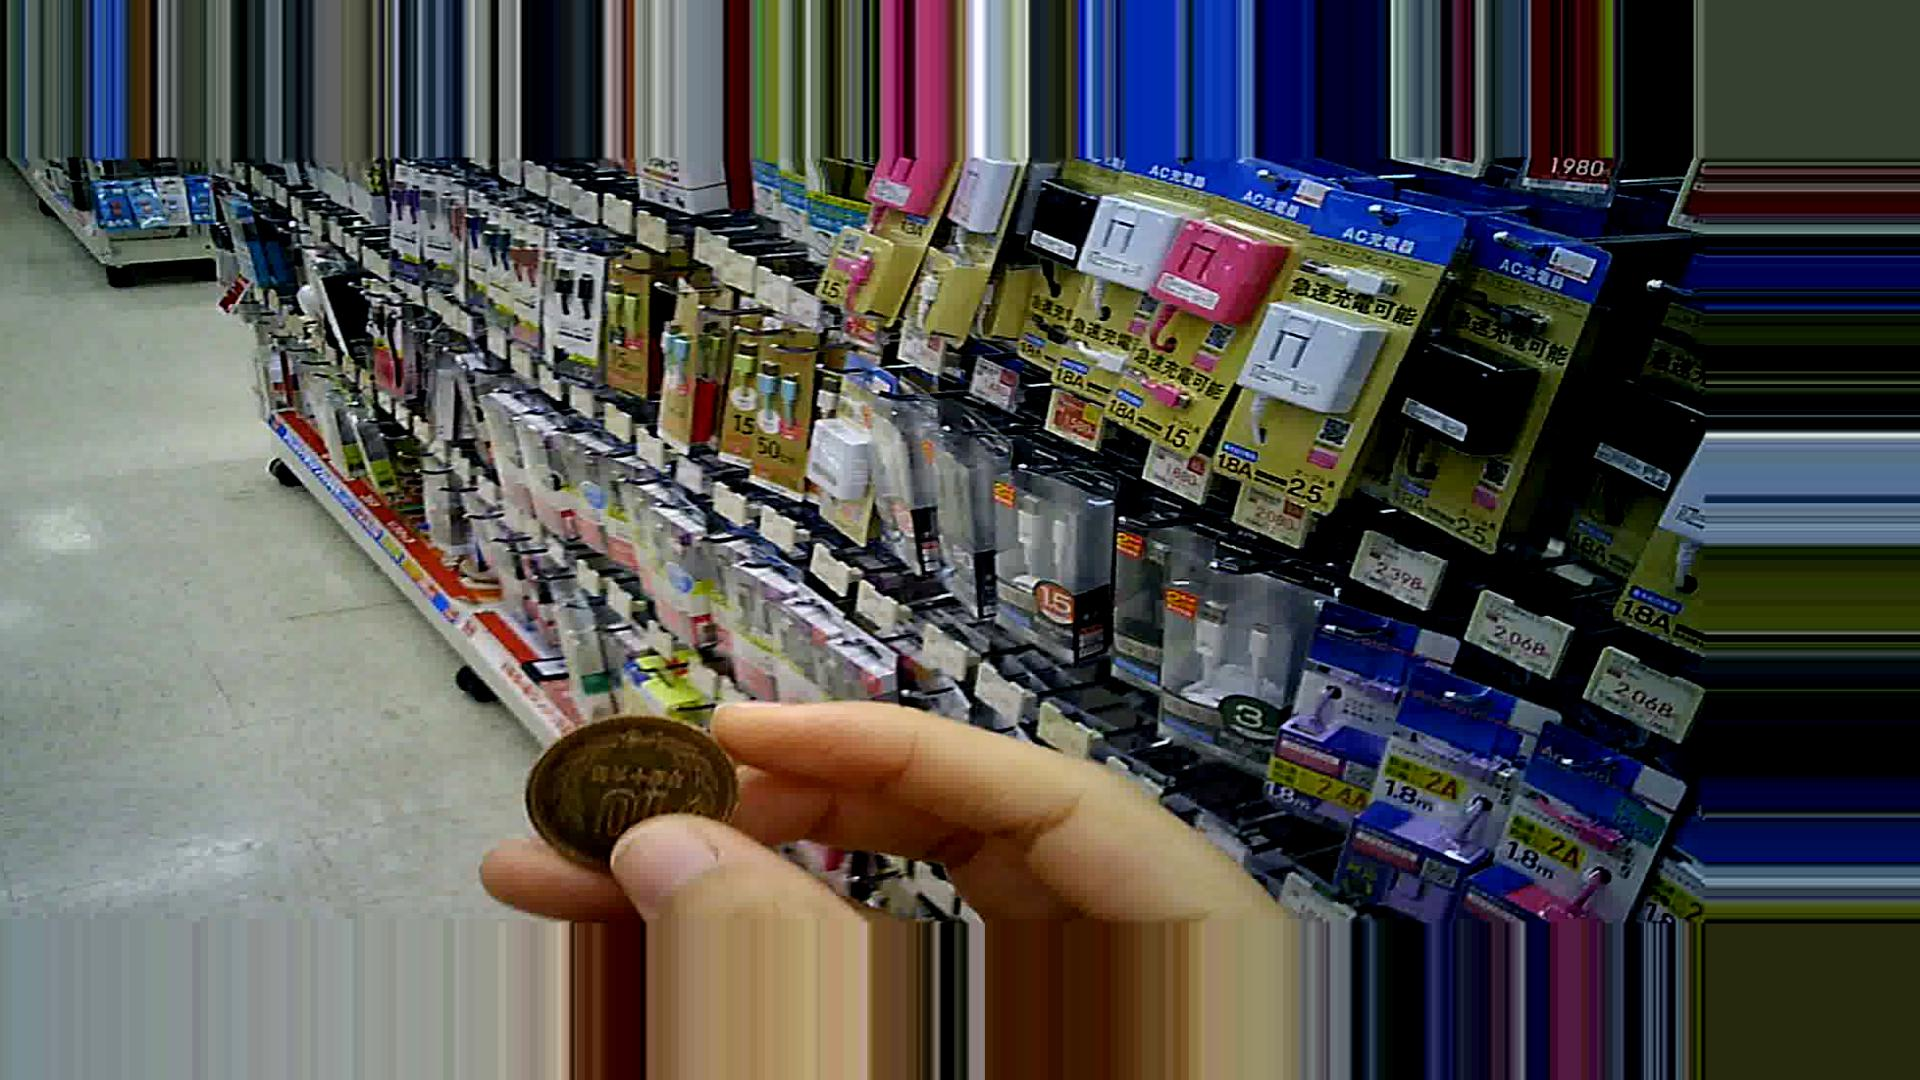10 Yen: (509, 707, 769, 882)
